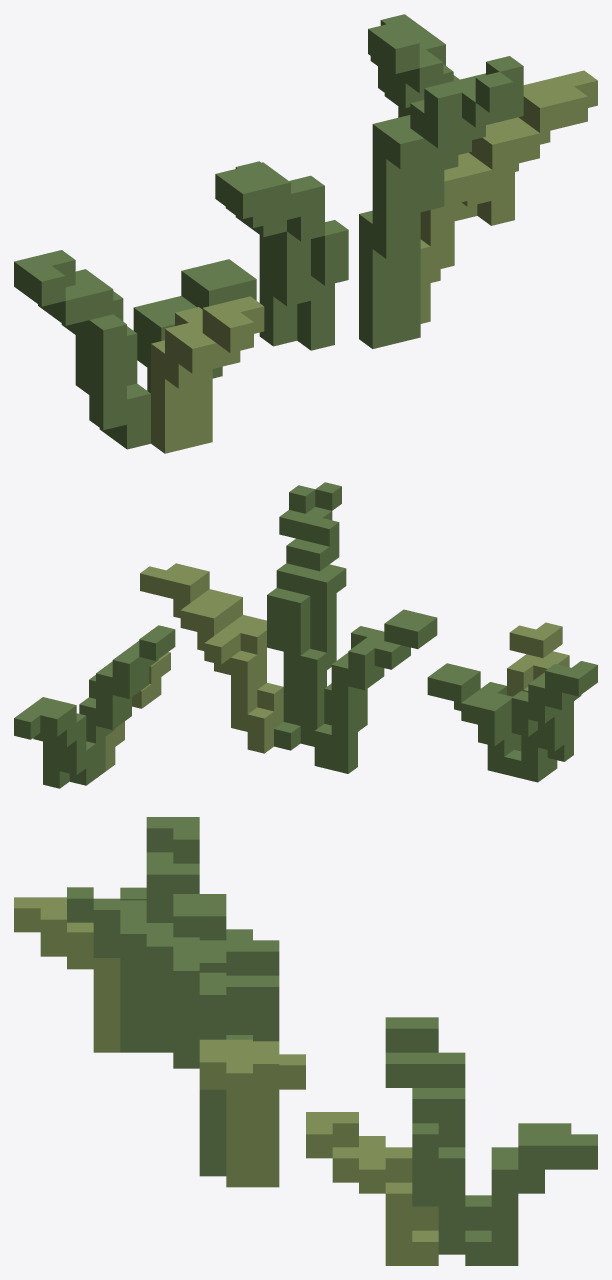
File: grass_tuft_v2_species1_mid.glb
3 renders of one model, top to bottom at view 1: azimuth 30°, elevation 25°; view 2: azimuth 150°, elevation 25°; view 3: azimuth 270°, elevation 25°, orthographic. The views are drawn at different scales.
Parts seen in each view (by area): view 1: grass_tuft_v2_species1_mid; view 2: grass_tuft_v2_species1_mid; view 3: grass_tuft_v2_species1_mid.
Boxes of the visible parts, bbox=[...] form: grass_tuft_v2_species1_mid: bbox=[14, 14, 597, 453]; grass_tuft_v2_species1_mid: bbox=[14, 482, 597, 788]; grass_tuft_v2_species1_mid: bbox=[14, 817, 597, 1265].
Size of the model in its own units: 1.56 by 0.75 by 1.38.
Materials: 1 (1 with a texture image).
